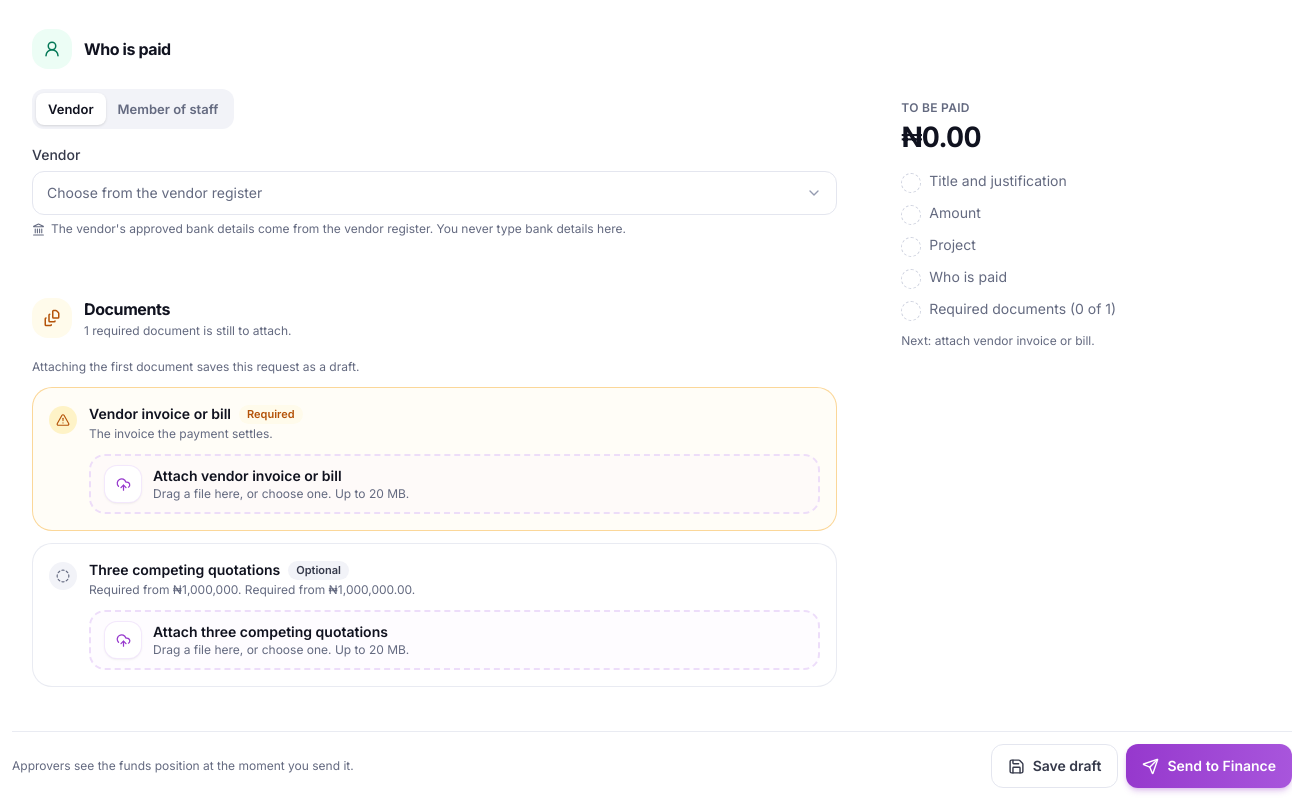
Test: RequestEditor › checks the basics before saving anything
(page scrolled)
What coordinates should you click on to do the following:
click the button "Send to Finance"
I would click on:
 (1209, 766)
Its box is [1126, 744, 1292, 788].
(page scrolled)
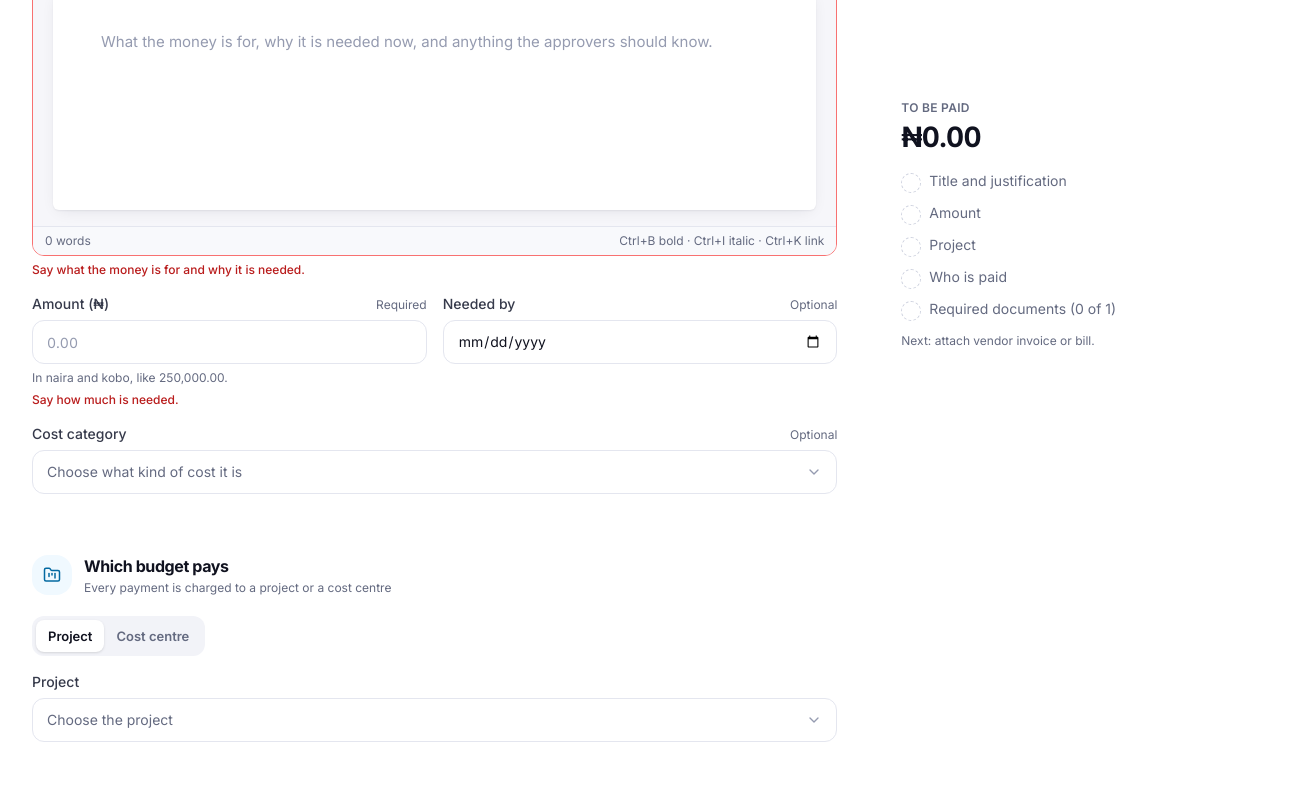
Now the text "Say how much is needed." is shown, box [32, 392, 179, 407]
